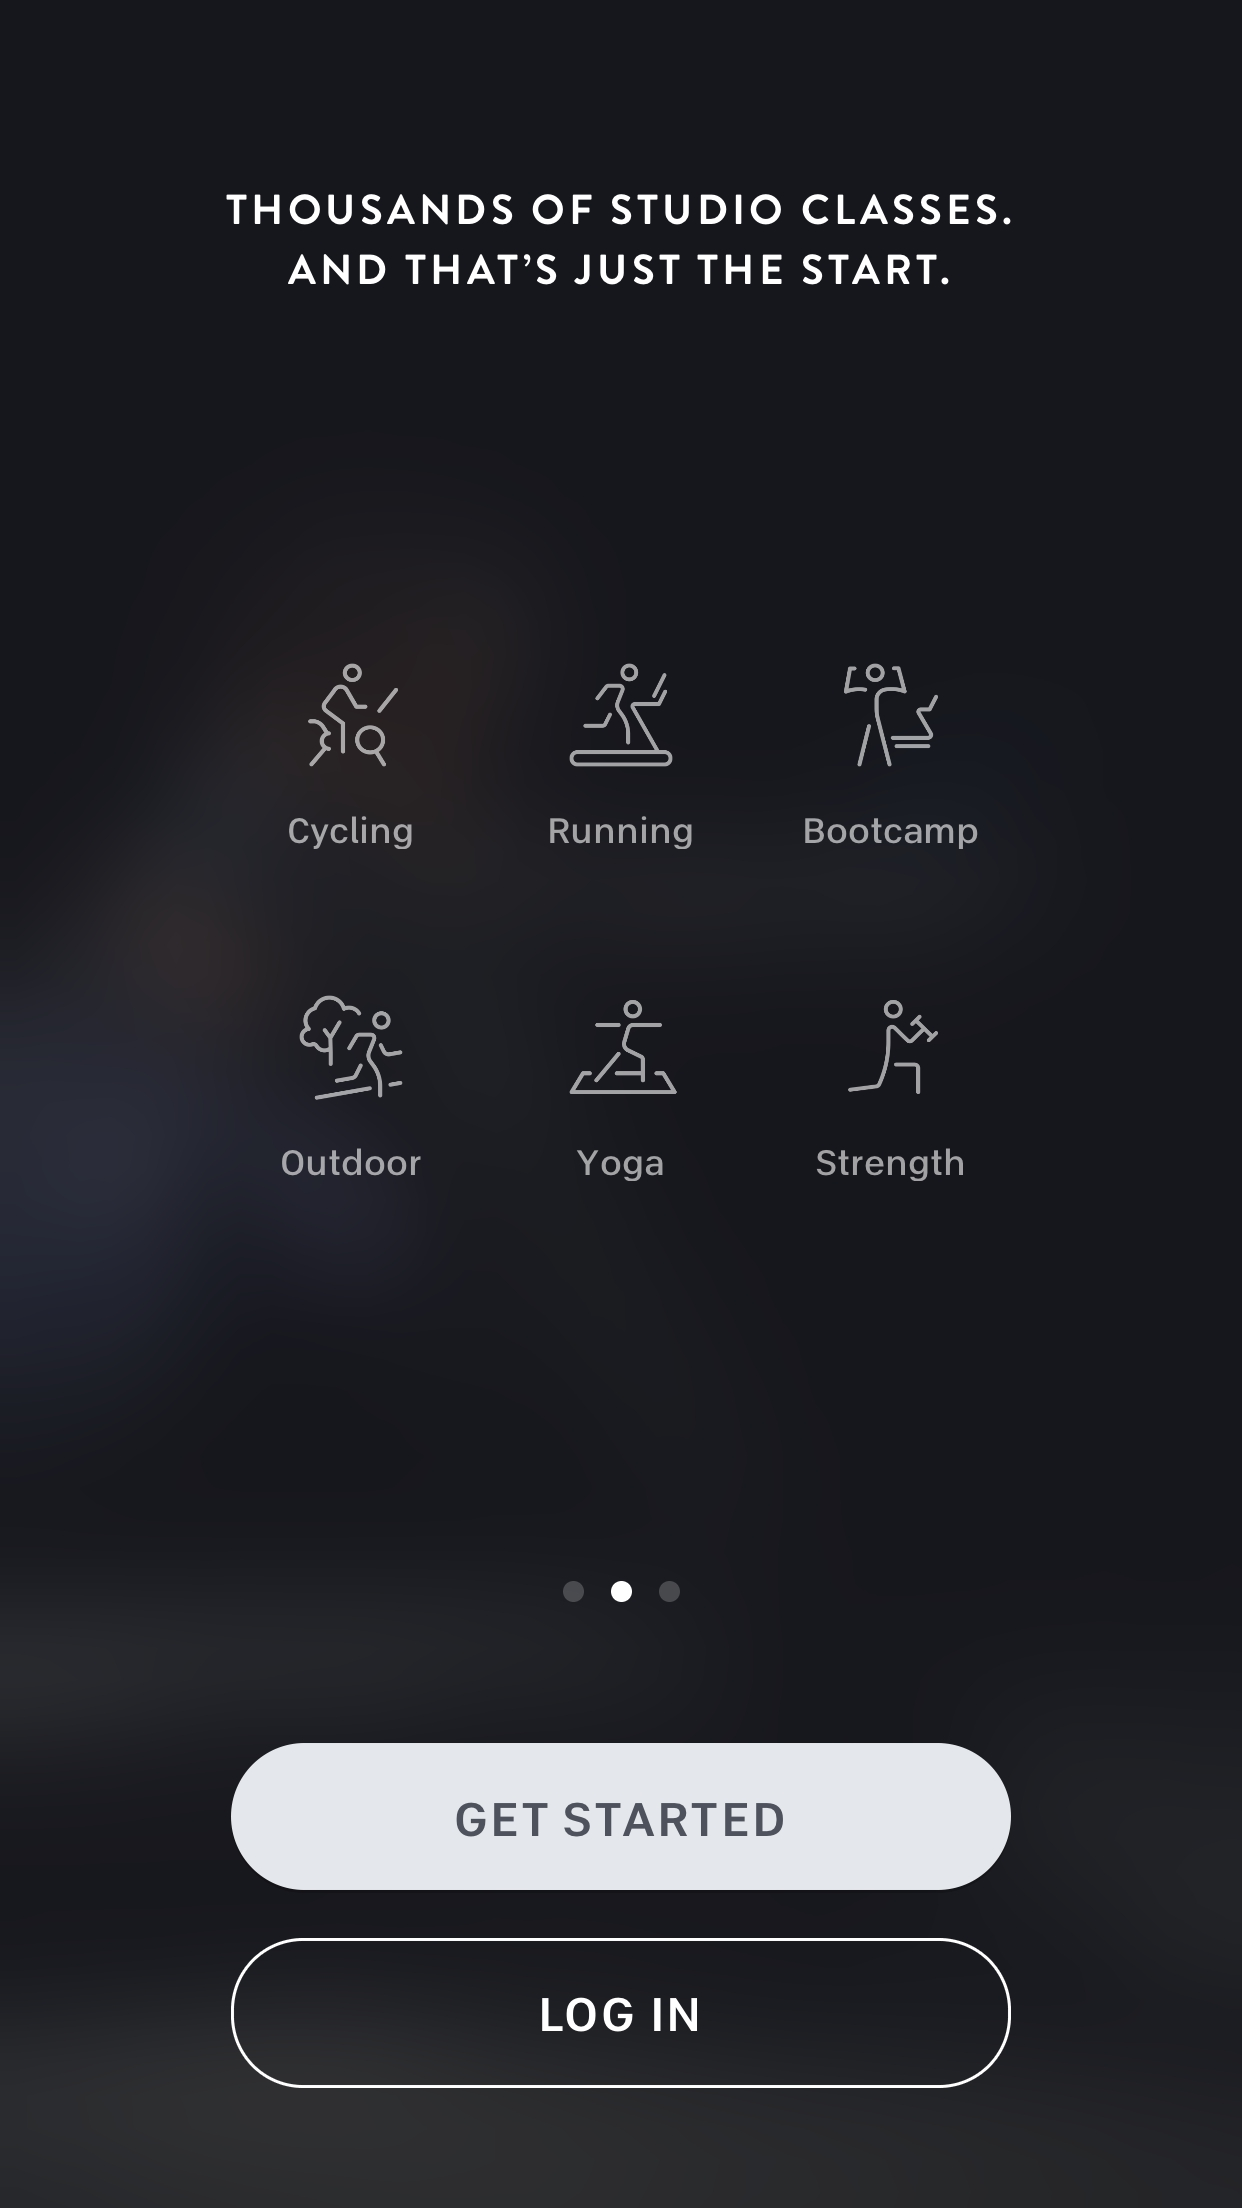Image: (299, 995, 403, 1101), (569, 663, 673, 767), (569, 999, 679, 1096), (843, 663, 939, 767), (308, 664, 400, 769), (848, 999, 940, 1093)
PageIndicator: (563, 1580, 682, 1604)
Text: (226, 194, 1011, 287), (804, 817, 978, 851), (550, 816, 693, 851), (816, 1149, 964, 1183), (290, 814, 414, 851), (282, 1148, 423, 1178), (576, 1149, 664, 1183)
TextButton: (231, 1937, 1011, 2090), (231, 1742, 1011, 1891)
